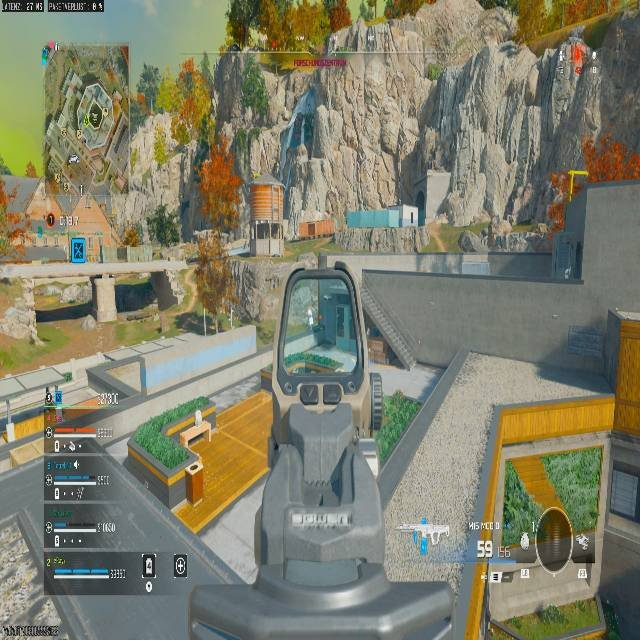player: (305, 308, 313, 326)
